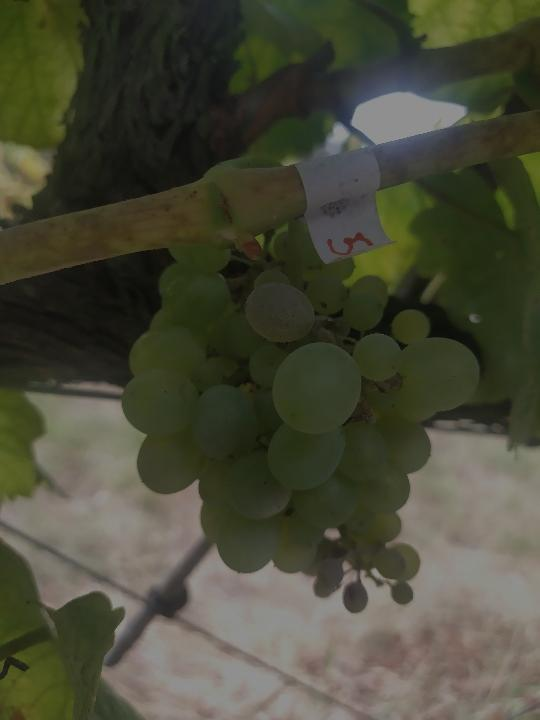grape: (117, 227, 484, 615)
